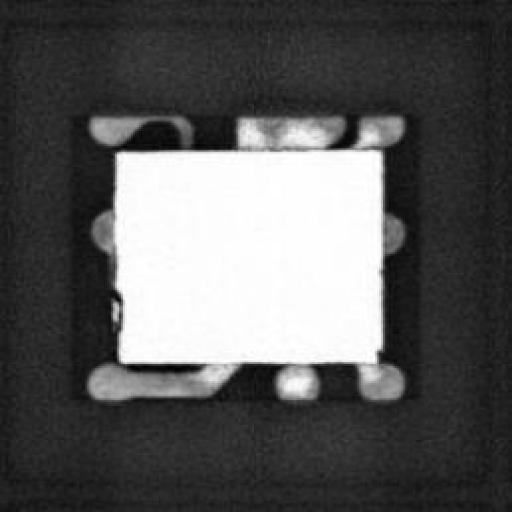DIE_BROKEN: (107, 284, 123, 336), (373, 341, 385, 364)
